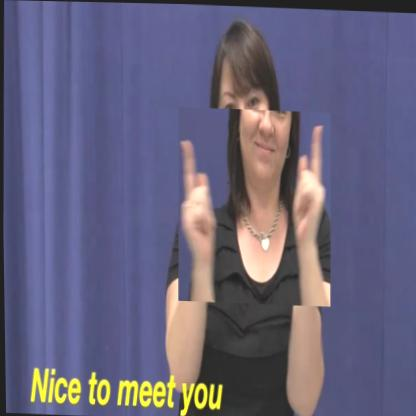NiceToMeetYou: (175, 106, 332, 305)
